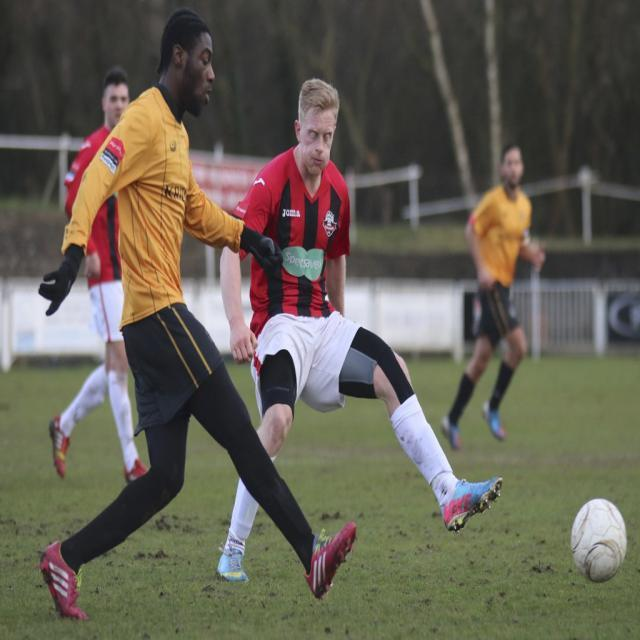football: (565, 487, 631, 582)
